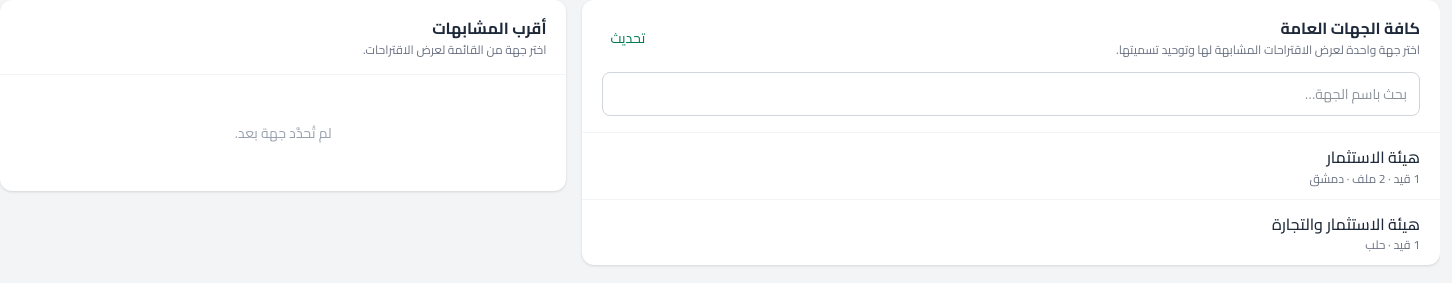
Test case: UnifyNamesTab › عند النقر على جهة ثم أخرى سريعًا يعرض اقتراحات آخر نقرة ويتجاهل نتيجة الأولى المتأخرة
Expected: the text "هيئة الاستثمار" is shown, [1326,142,1420,172]
Click the button "هيئة الاستثمار 1 قيد · 2 ملف · دمشق".
click(1373, 157)  # box [582,133,1440,200]
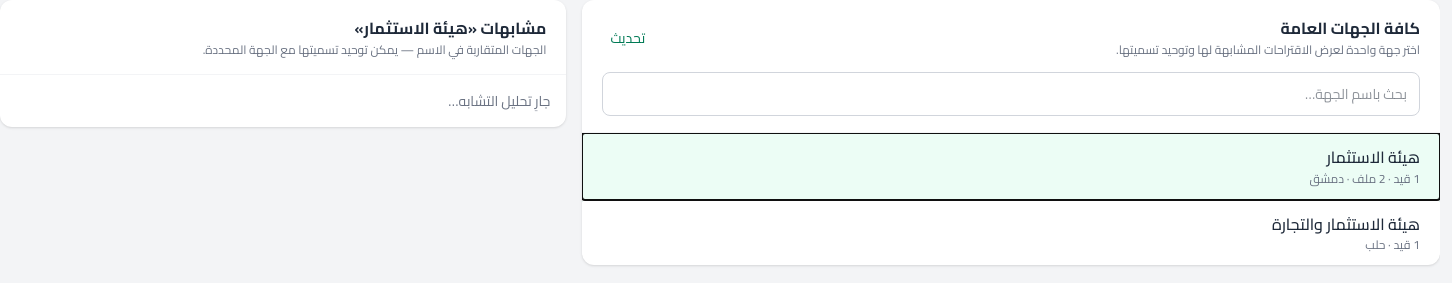
Click the button "هيئة الاستثمار والتجارة 1 قيد · حلب".
click(1346, 224)  # box [582,200,1440,265]
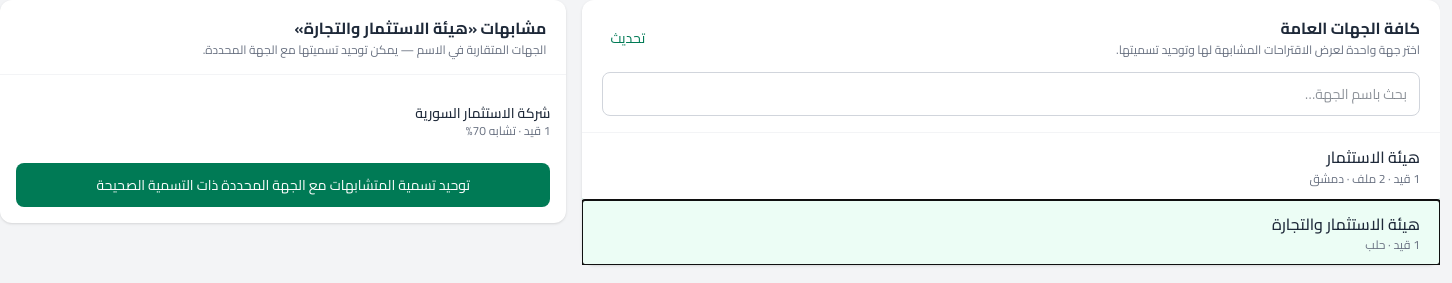
Expected: the text "شركة الاستثمار السورية" is shown, [415,100,550,126]
